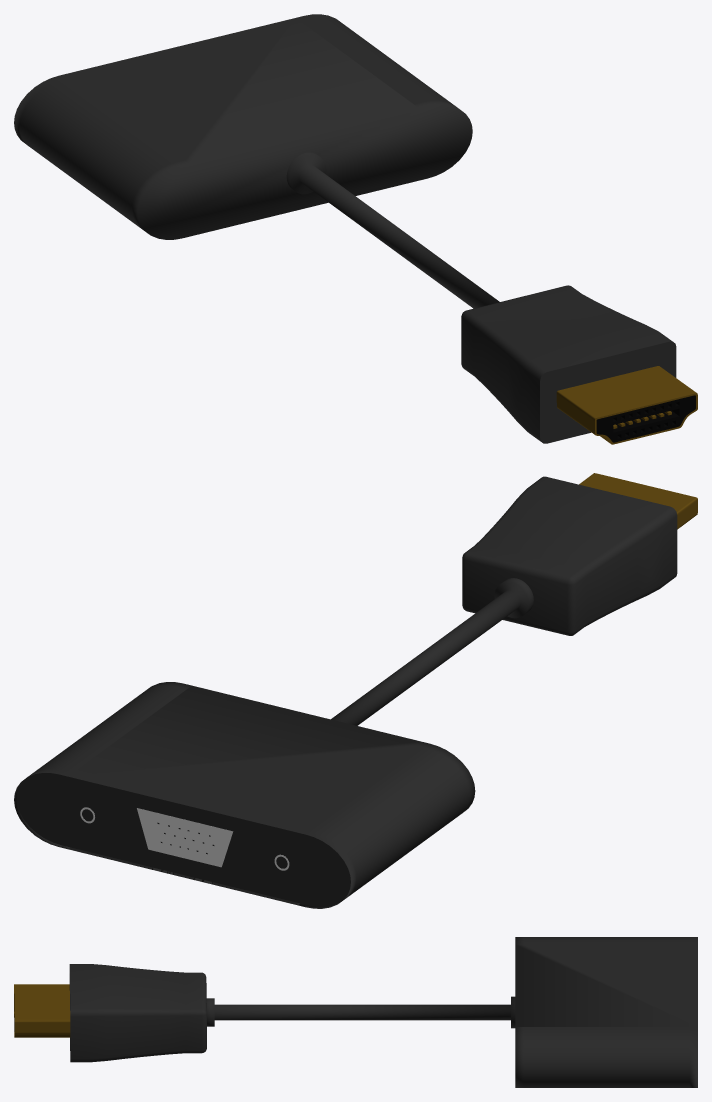
Rendered from hdmi to vga.fbx.
3 renders of one model, top to bottom at view 1: azimuth 30°, elevation 25°; view 2: azimuth 150°, elevation 25°; view 3: azimuth 270°, elevation 25°, orthographic. The views are drawn at different scales.
Visible parts, largest first — view 1: Roundcube, HDMIcabel, Cylinder; view 2: Roundcube, HDMIcabel, Roundcube.001, Cylinder, Cube; view 3: Roundcube, HDMIcabel, Cylinder.
Boxes of the visible parts, x1,y1,x2,y2 form: Roundcube: (14, 14, 472, 239); HDMIcabel: (461, 285, 697, 444); Cylinder: (286, 152, 499, 308); Roundcube: (14, 682, 475, 908); HDMIcabel: (462, 473, 697, 635); Roundcube.001: (16, 773, 350, 906); Cylinder: (331, 578, 533, 725); Cube: (137, 808, 233, 867); Roundcube: (515, 937, 697, 1087); HDMIcabel: (14, 964, 206, 1062); Cylinder: (206, 996, 515, 1028).
Bounding box in the file's own units: 453 × 93.41 × 1085.
